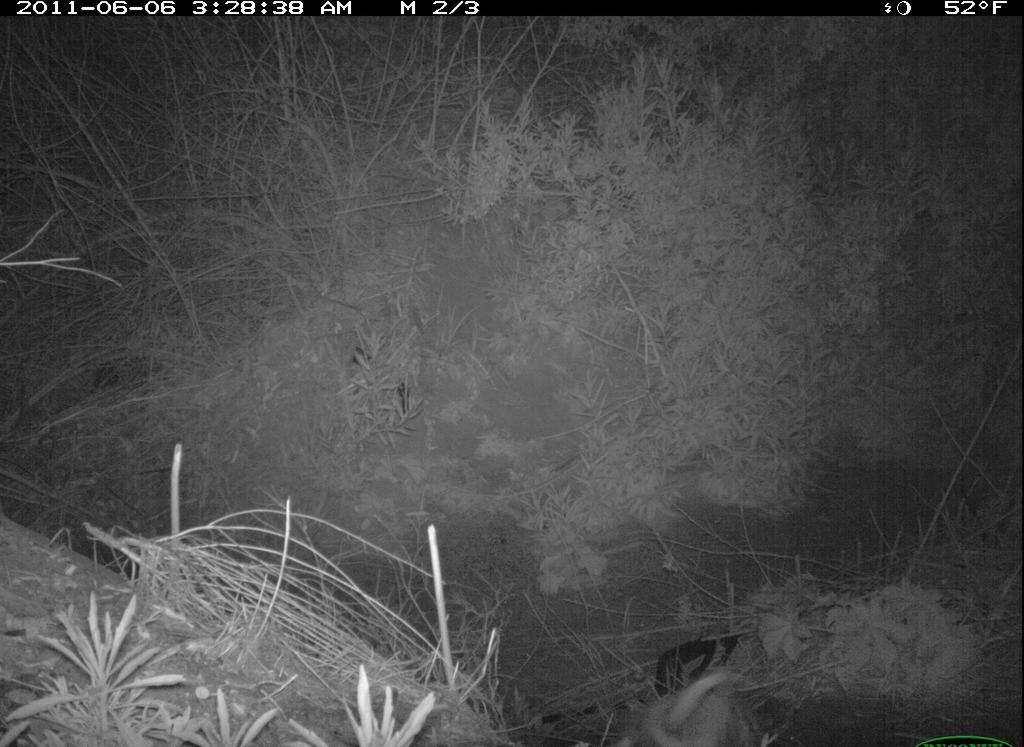opossum: (625, 664, 781, 747)
